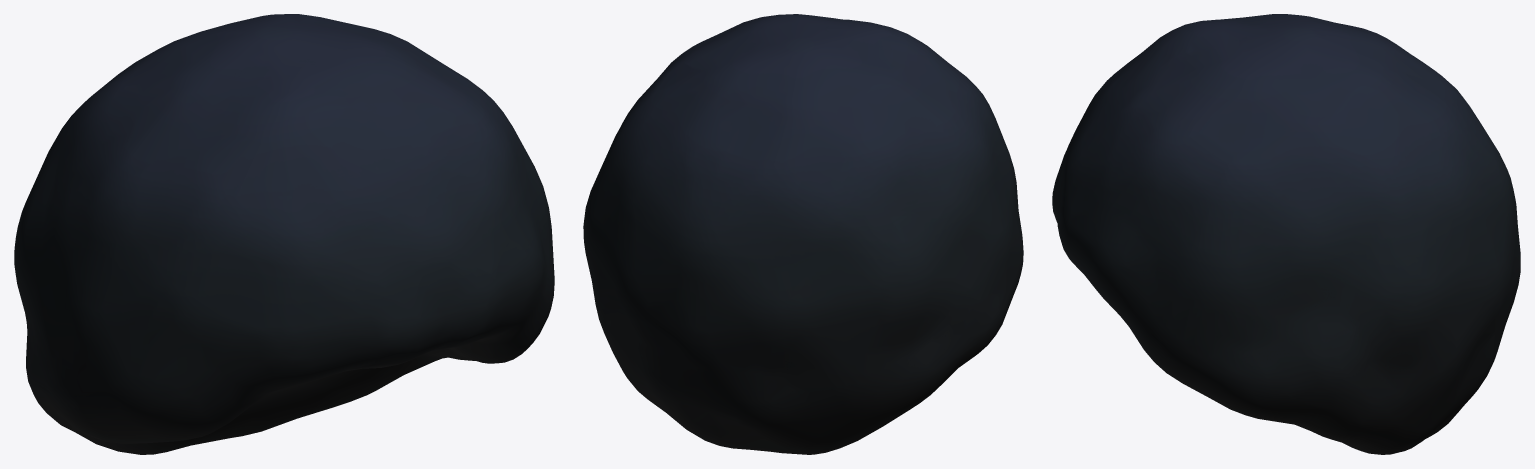
Rendered from SM_HAIR_Afro.fbx.
3 renders of one model, left to right at view 1: azimuth 30°, elevation 25°; view 2: azimuth 150°, elevation 25°; view 3: azimuth 270°, elevation 25°, orthographic. The views are drawn at different scales.
Parts seen in each view (by area): view 1: HAIR_Afro; view 2: HAIR_Afro; view 3: HAIR_Afro.
Part boxes in pixels (x1,y1,x2,y2): HAIR_Afro: (14, 14, 554, 454); HAIR_Afro: (583, 14, 1023, 454); HAIR_Afro: (1052, 14, 1520, 454).
Size of the model in its own units: 86.83 by 80.39 by 87.72.
1 material, 1 textured.
